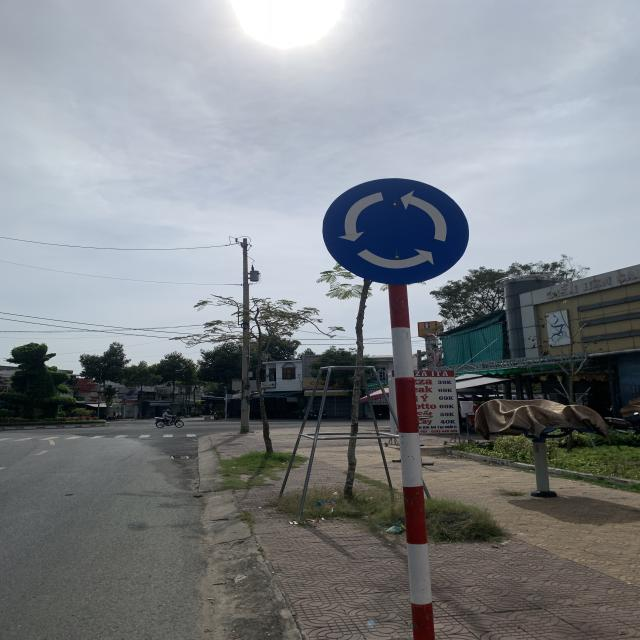Xe_Bus: (323, 177, 469, 284)
